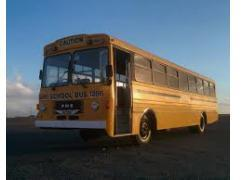bus: (35, 32, 221, 149)
